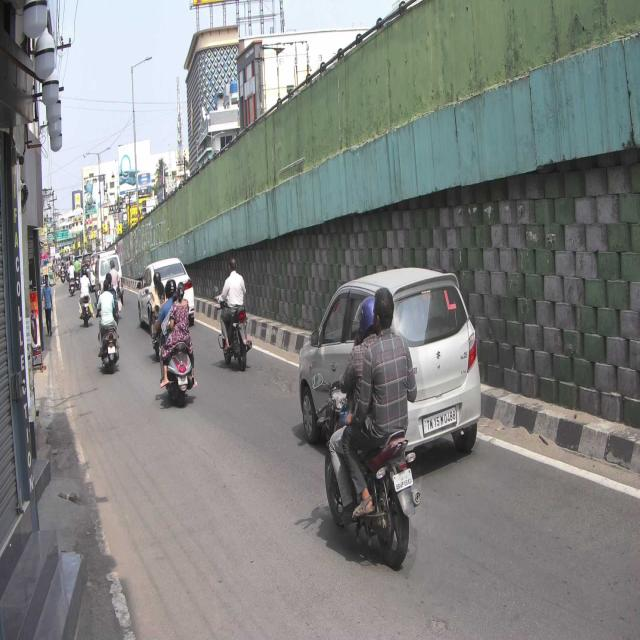double_rider: (313, 285, 423, 571)
